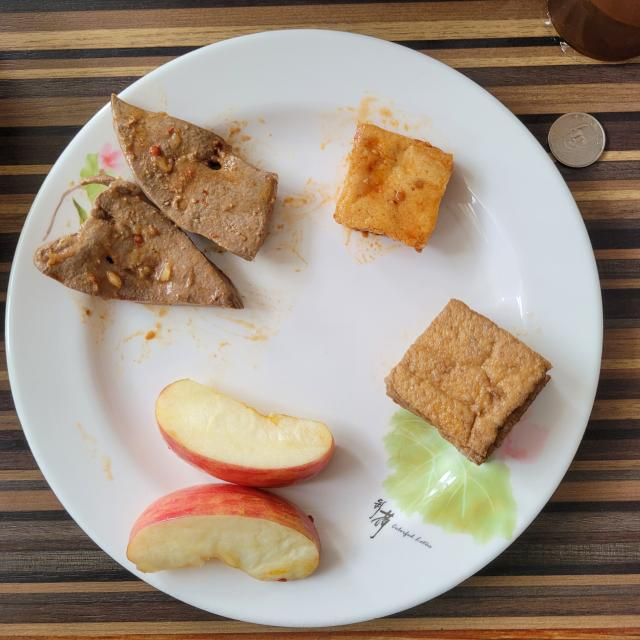apple -sliced-: (128, 379, 334, 581)
coin: (549, 112, 605, 168)
creamy tofu: (334, 124, 452, 251)
egg tofu: (385, 299, 551, 465)
pig liver: (34, 95, 278, 309)
